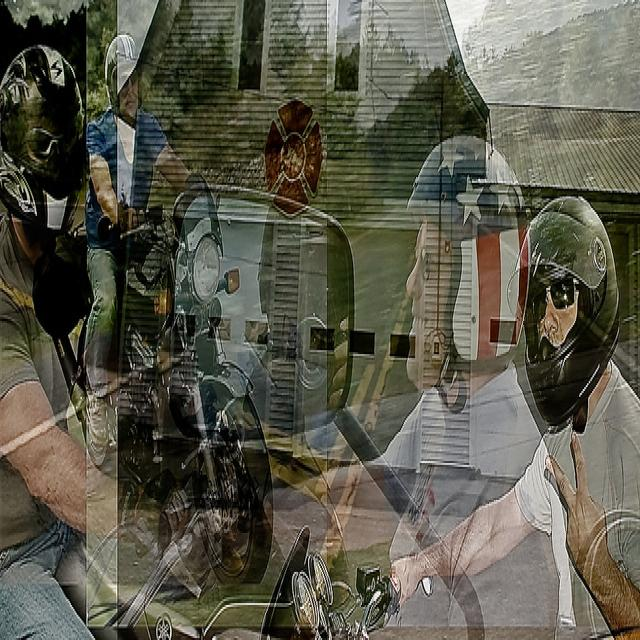motor: (59, 350, 350, 628), (117, 175, 273, 585), (227, 515, 403, 640)
